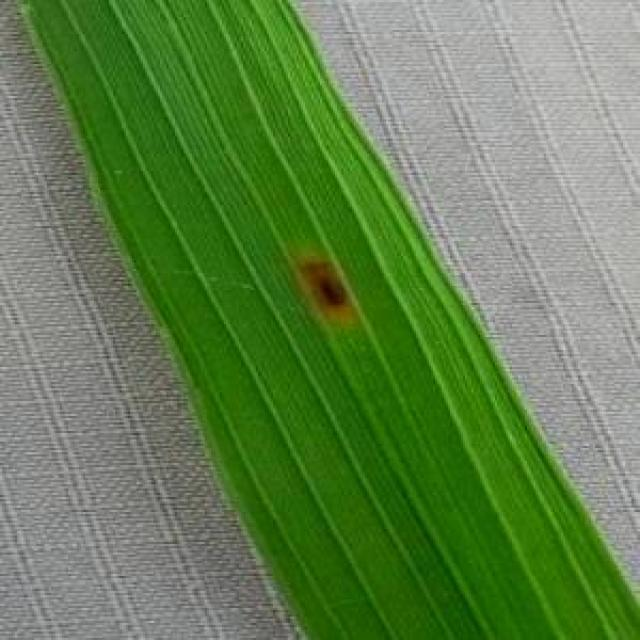Rice_Brownspot: (277, 230, 369, 333)
